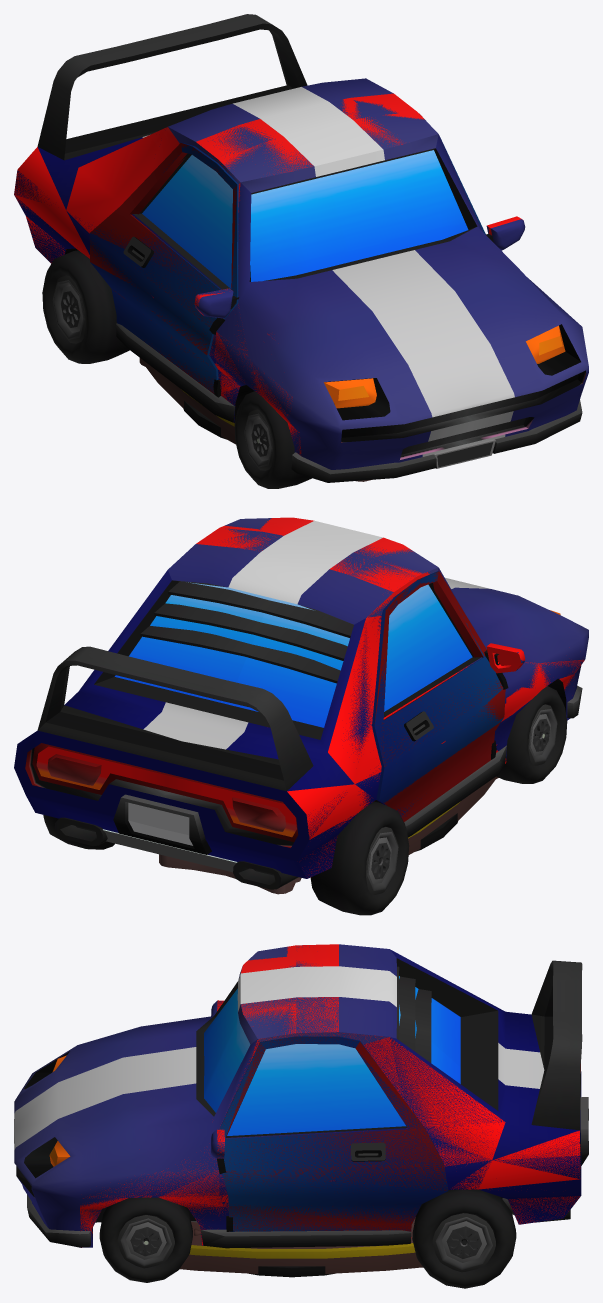
File: Pack_PRODUCTS1 (1).fbx
The picture shows the model from 3 angles, top to bottom: view 1: azimuth 30°, elevation 25°; view 2: azimuth 150°, elevation 25°; view 3: azimuth 270°, elevation 25°; orthographic projection. The views are drawn at different scales.
Visible parts, largest first — view 1: Car_blue, Car_red.001, Car_green.001, Doska_guns; view 2: Car_blue, Car_red.001, Doska_guns; view 3: Car_blue, Car_red.001, Doska_guns, shild_1, Car_green.001.
Boxes of the visible parts, left/top/right/bottom form: Car_blue: left=14, top=14, right=588, bottom=488; Car_red.001: left=14, top=23, right=586, bottom=480; Car_green.001: left=251, top=150, right=467, bottom=281; Doska_guns: left=139, top=358, right=372, bottom=481; Car_blue: left=14, top=518, right=588, bottom=915; Car_red.001: left=25, top=517, right=584, bottom=909; Doska_guns: left=159, top=776, right=498, bottom=894; Car_blue: left=14, top=944, right=588, bottom=1288; Car_red.001: left=24, top=944, right=588, bottom=1288; Doska_guns: left=179, top=1217, right=423, bottom=1273; shild_1: left=249, top=1266, right=334, bottom=1277; Car_green.001: left=204, top=1033, right=250, bottom=1111.
Bounding box in the file's own units: 128 × 101 × 216.
